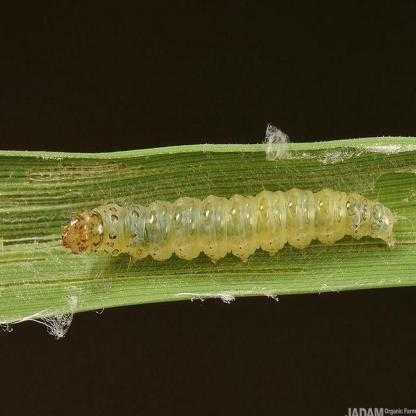leaf-folder: (58, 182, 406, 272)
